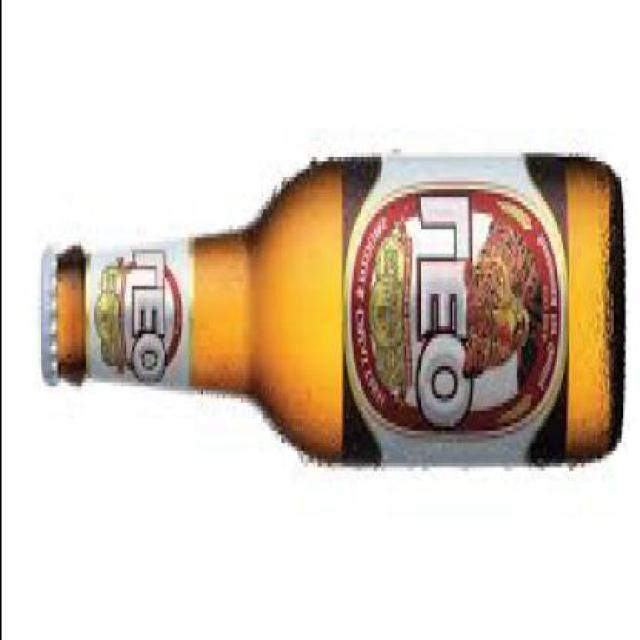GLASS: (55, 146, 622, 462)
METAL: (38, 238, 54, 374)
